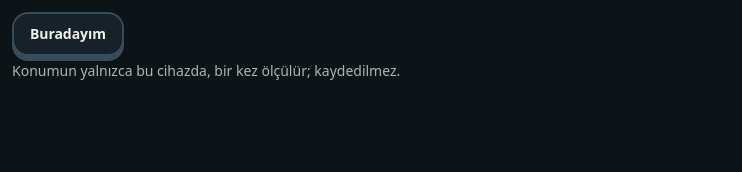
Test case: Buradayım düğmesi › izin reddinde nazik açıklama
Click the button "Buradayım": (68, 34) [12,12,124,56]
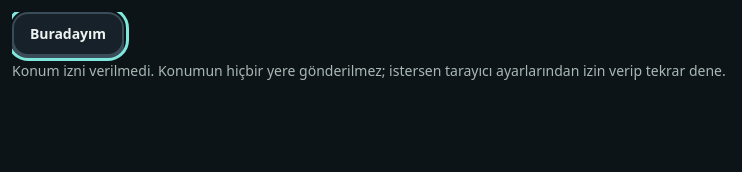
Result: the text "Konum izni verilmedi" is shown at [12,61,726,80]
